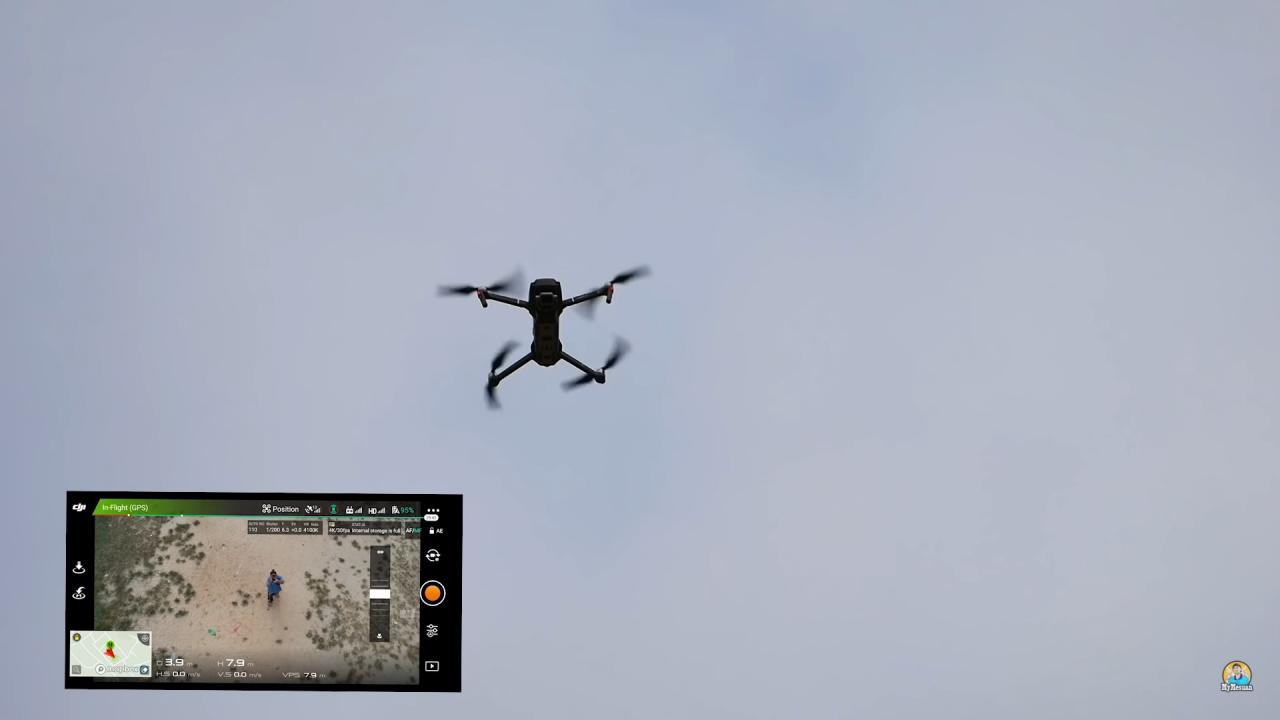Drone: (426, 247, 664, 419)
